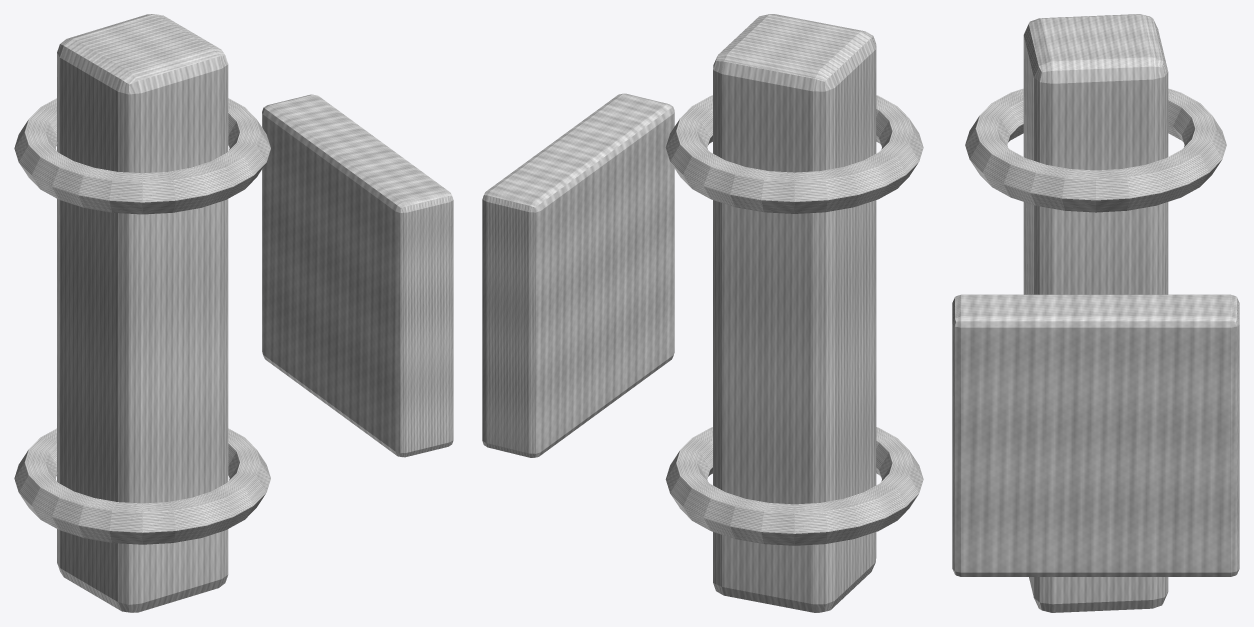
Rendered from item-iron-rod_variant_b.glb.
3 renders of one model, left to right at view 1: azimuth 30°, elevation 25°; view 2: azimuth 150°, elevation 25°; view 3: azimuth 270°, elevation 25°, orthographic.
Visible parts, largest first — view 1: Long component.001, Variant reinforcement, Machined collar.003, Machined collar.004; view 2: Long component.001, Variant reinforcement, Machined collar.004, Machined collar.003; view 3: Variant reinforcement, Long component.001, Machined collar.004.
Part boxes in pixels (box(x1,y1,x2,y2)): Long component.001: box(57, 14, 228, 612); Variant reinforcement: box(262, 94, 453, 457); Machined collar.003: box(14, 428, 270, 544); Machined collar.004: box(14, 98, 270, 214); Long component.001: box(713, 14, 876, 612); Variant reinforcement: box(482, 93, 674, 457); Machined collar.004: box(665, 95, 923, 213); Machined collar.003: box(665, 427, 923, 545); Variant reinforcement: box(952, 294, 1239, 576); Long component.001: box(1023, 14, 1168, 612); Machined collar.004: box(965, 88, 1226, 212).
Size of what is drawn, in the model's own units: 0.495 by 0.72 by 0.34.
Materials: 3 (3 with a texture image).
